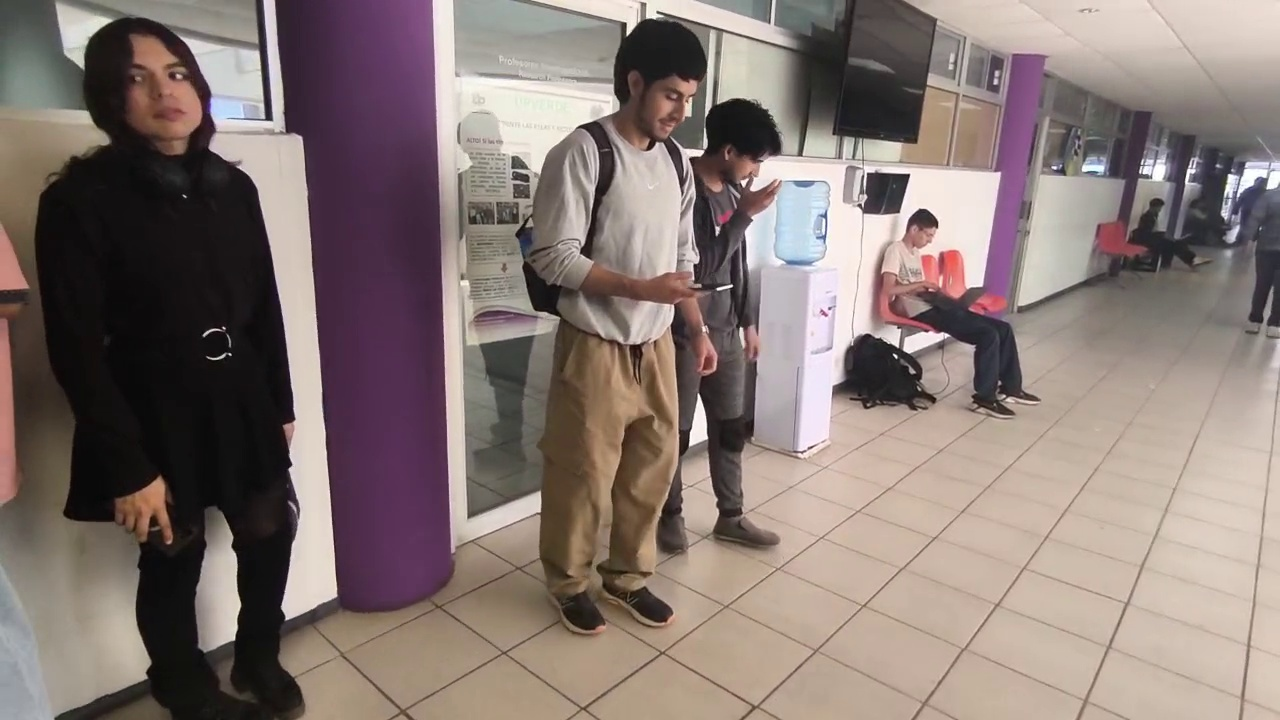mixto2: (127, 505, 201, 560), (683, 277, 735, 295)
